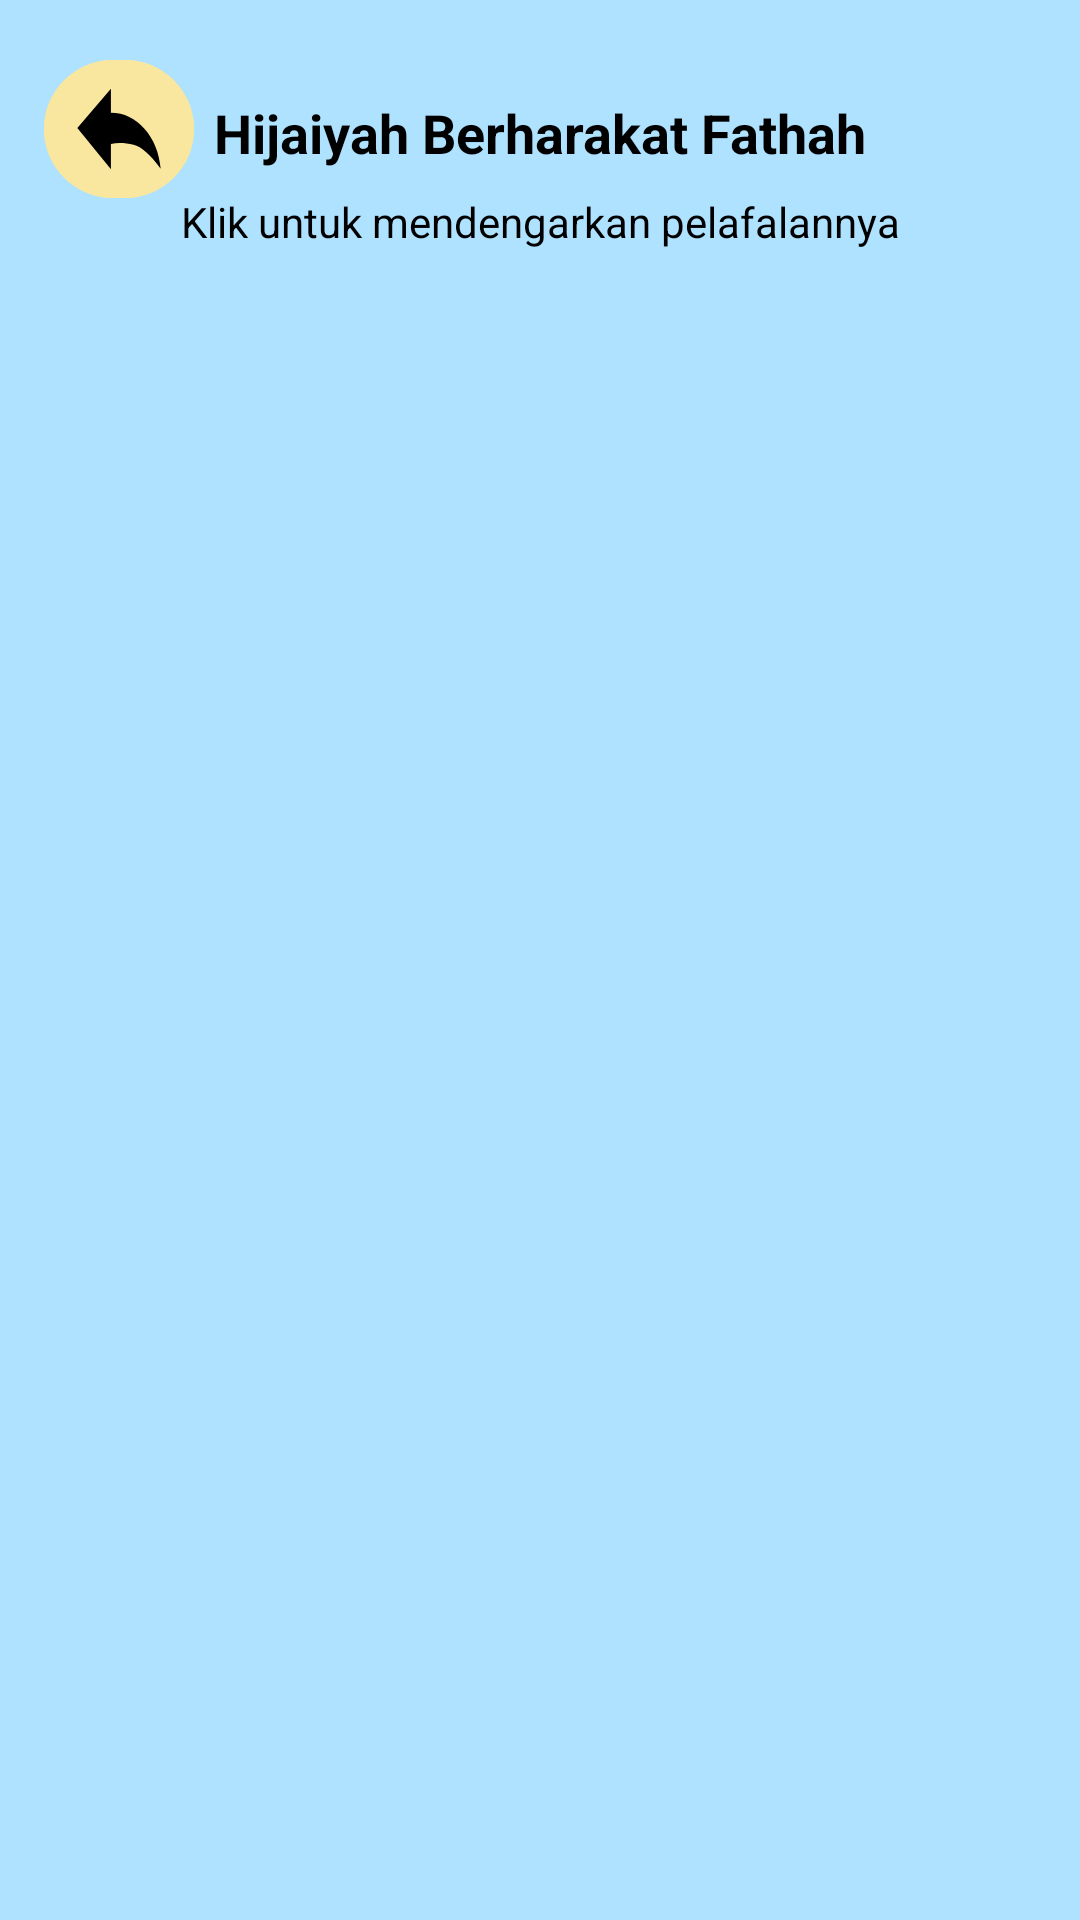

Named icons in this screenshot (1080×1920) and their bounding boxes, (x1, y1, x2, y2):
back: (44, 60, 194, 198)
